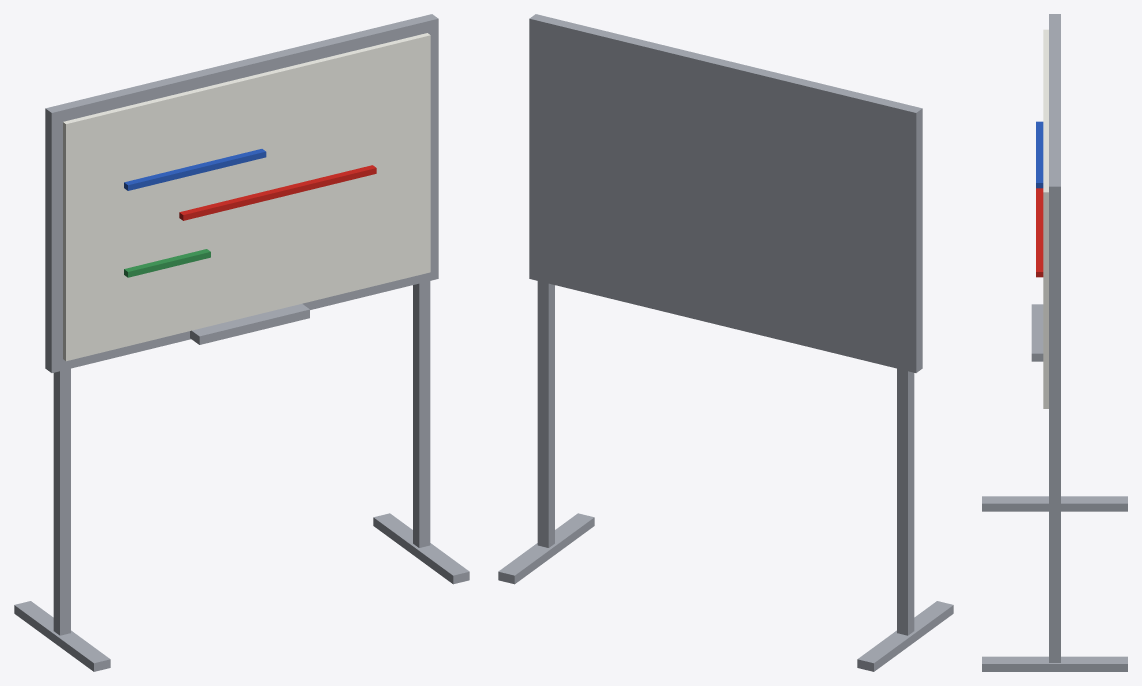
File: whiteboard.glb
The picture shows the model from 3 angles, left to right: view 1: azimuth 30°, elevation 25°; view 2: azimuth 150°, elevation 25°; view 3: azimuth 270°, elevation 25°; orthographic projection. The views are drawn at different scales.
Visible parts, largest first — view 1: whiteboard; view 2: whiteboard; view 3: whiteboard.
Boxes of the visible parts, left/top/right/bottom form: whiteboard: left=14, top=14, right=469, bottom=671; whiteboard: left=498, top=14, right=953, bottom=671; whiteboard: left=982, top=14, right=1127, bottom=671.
Size of the model in its own units: 1.4 by 1.84 by 0.5.
